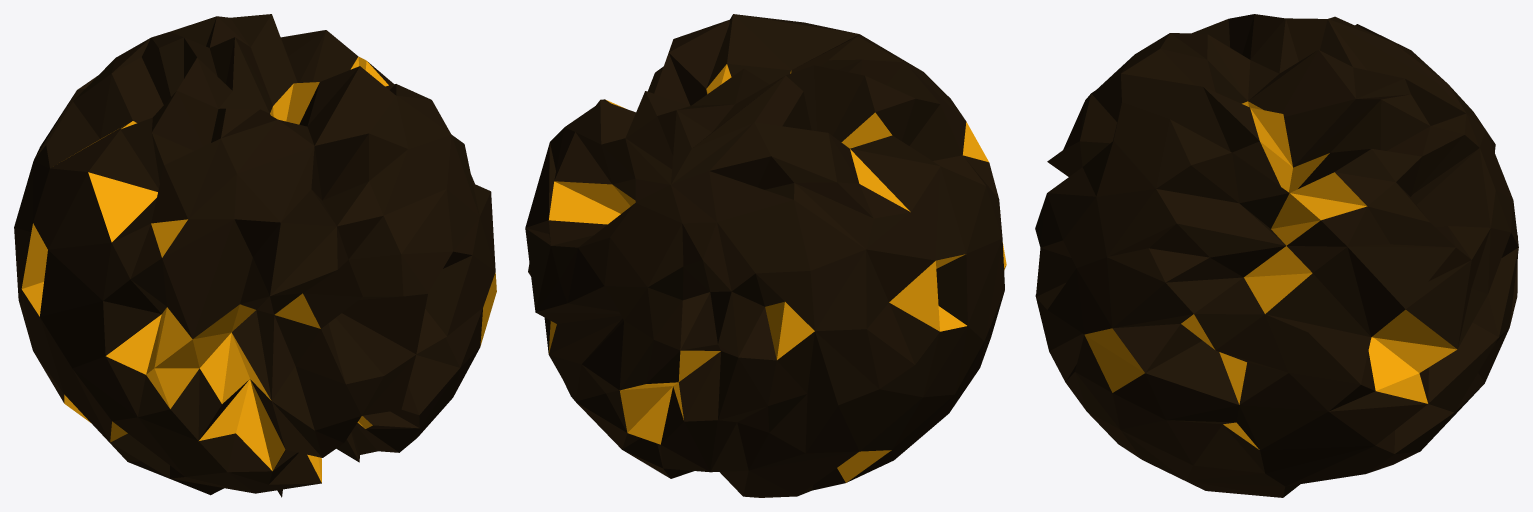
The model's file is Meteorite.fbx.
3 renders of one model, left to right at view 1: azimuth 30°, elevation 25°; view 2: azimuth 150°, elevation 25°; view 3: azimuth 270°, elevation 25°, orthographic.
Visible parts, largest first — view 1: Meteorite; view 2: Meteorite; view 3: Meteorite.
Boxes of the visible parts, x1,y1,x2,y2 form: Meteorite: [14, 14, 496, 497]; Meteorite: [525, 14, 1006, 497]; Meteorite: [1035, 14, 1518, 497].
Bounding box in the file's own units: 149 × 142 × 147.
